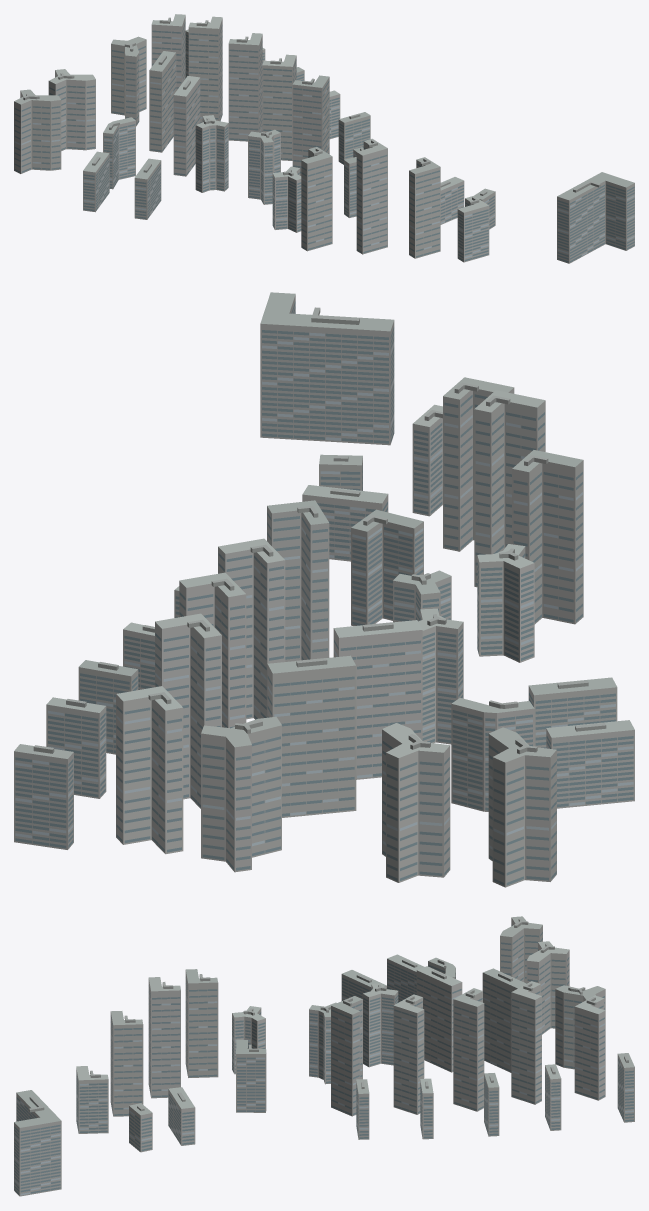
Rendered from apt-a10027207.glb.
The picture shows the model from 3 angles, top to bottom: view 1: azimuth 30°, elevation 25°; view 2: azimuth 150°, elevation 25°; view 3: azimuth 270°, elevation 25°; orthographic projection. The views are drawn at different scales.
Parts seen in each view (by area): view 1: apt-a10027207; view 2: apt-a10027207; view 3: apt-a10027207.
Part boxes in pixels (left/top/right/bottom): apt-a10027207: left=14, top=14, right=634, bottom=263; apt-a10027207: left=14, top=292, right=634, bottom=887; apt-a10027207: left=14, top=916, right=634, bottom=1196.
Size of the model in its own units: 430 by 107 by 550.
